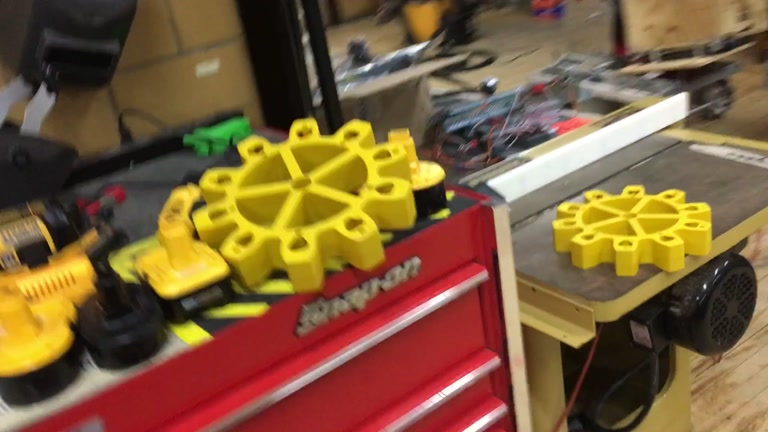gear: (189, 114, 416, 294), (550, 185, 713, 276)
